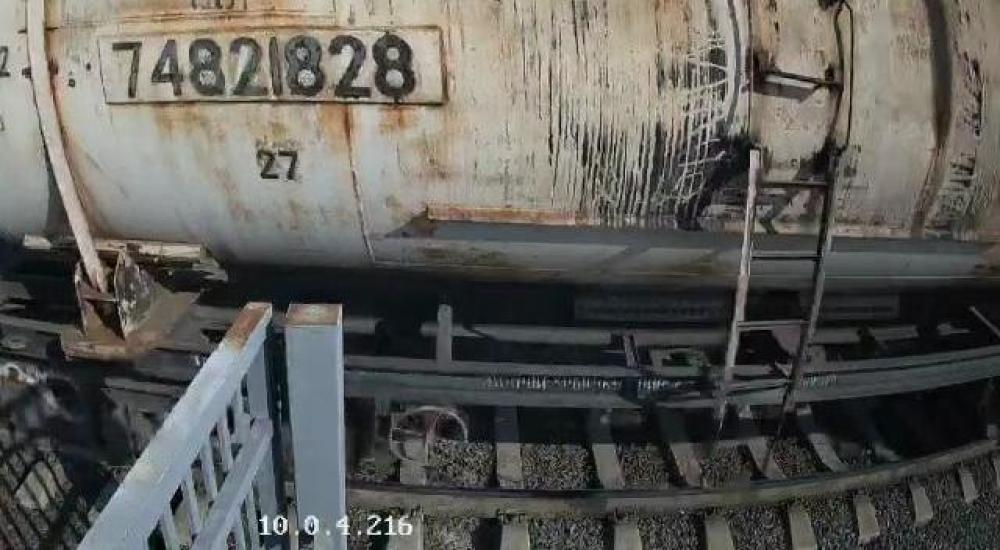Wagon-number: (106, 32, 421, 104)
